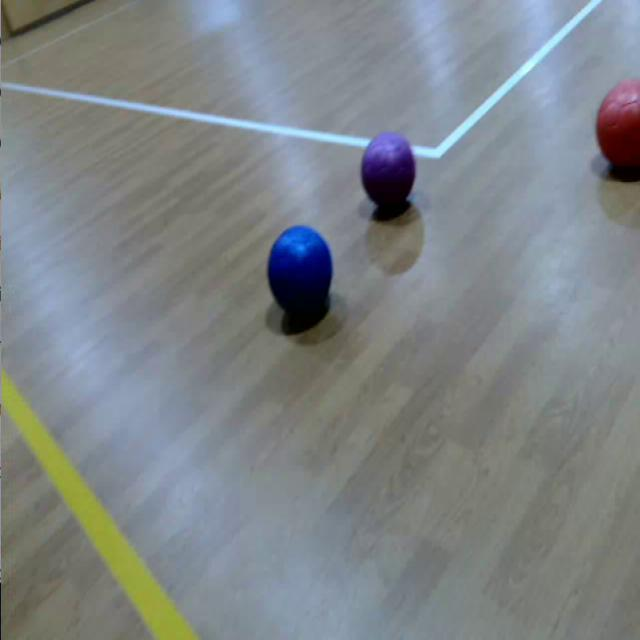blue_ball: (265, 222, 336, 324)
purple_ball: (360, 129, 418, 214)
red_ball: (591, 75, 640, 177)
